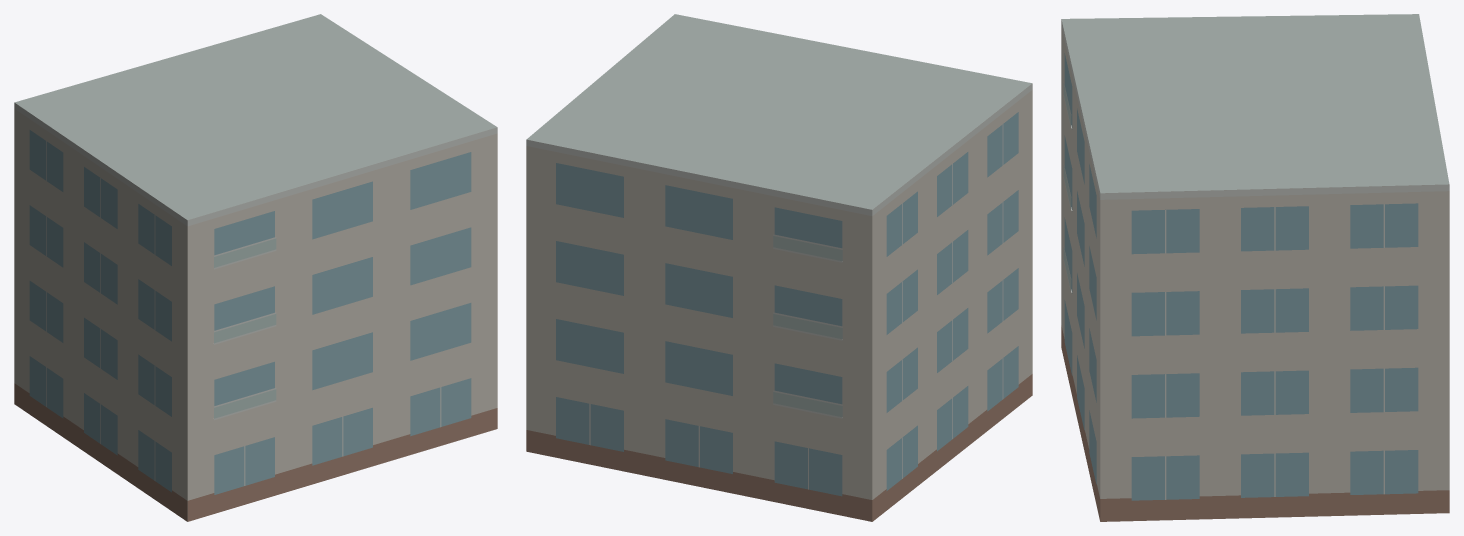
File: survey-upis-32752542.glb
The picture shows the model from 3 angles, left to right: view 1: azimuth 30°, elevation 25°; view 2: azimuth 150°, elevation 25°; view 3: azimuth 270°, elevation 25°; orthographic projection. The views are drawn at different scales.
Visible parts, largest first — view 1: survey-upis-32752542.tmp; view 2: survey-upis-32752542.tmp; view 3: survey-upis-32752542.tmp.
Part boxes in pixels (<box>): survey-upis-32752542.tmp: <box>14,14,497,521</box>; survey-upis-32752542.tmp: <box>526,14,1032,521</box>; survey-upis-32752542.tmp: <box>1061,14,1449,521</box>.
Bounding box in the file's own units: 14.05 × 12 × 12.85.
